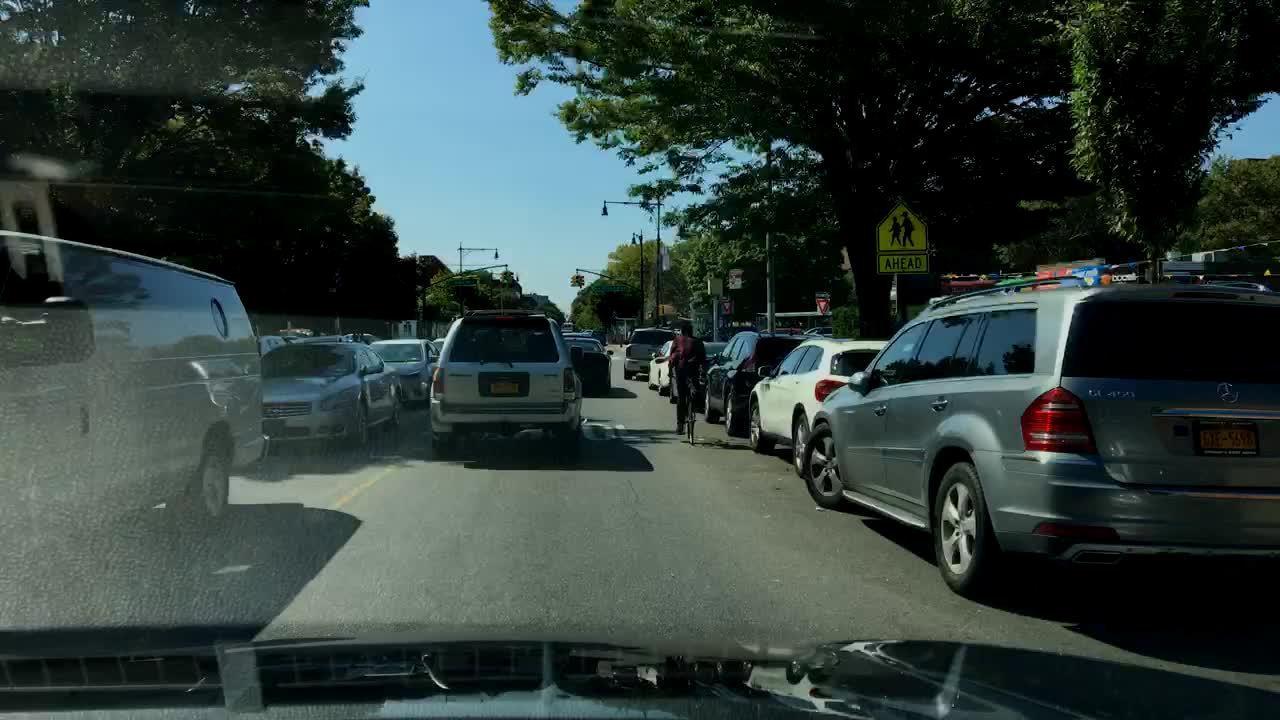Mercedes: (1208, 371, 1255, 414)
